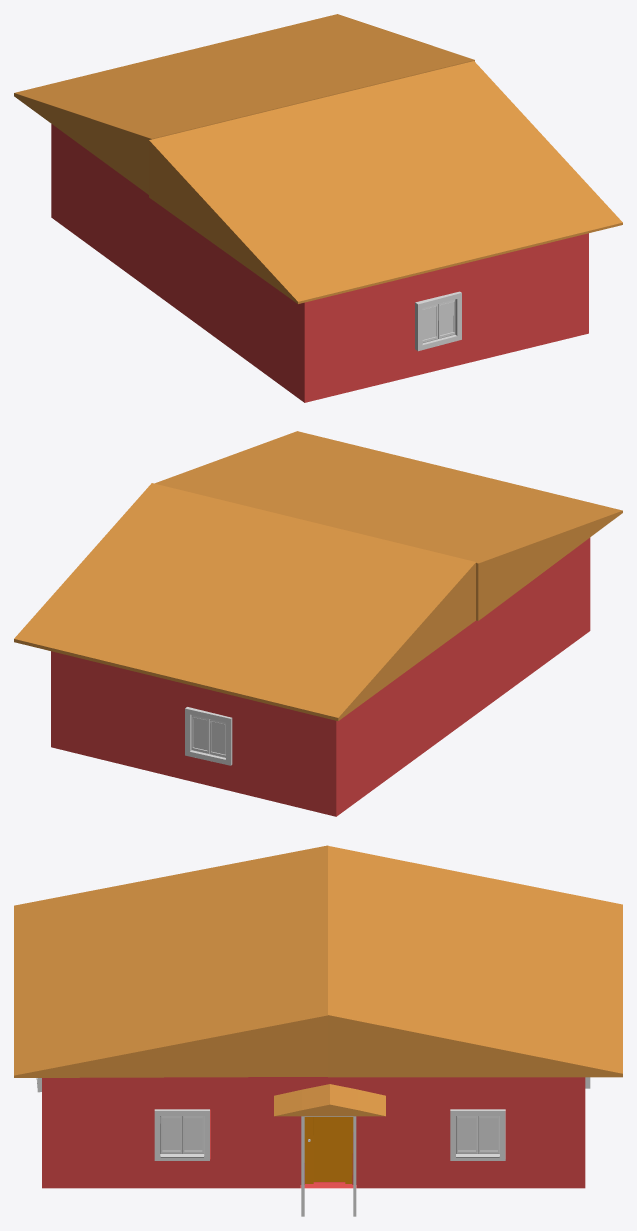
File: Dom 1.fbx
The picture shows the model from 3 angles, top to bottom: view 1: azimuth 30°, elevation 25°; view 2: azimuth 150°, elevation 25°; view 3: azimuth 270°, elevation 25°; orthographic projection. The views are drawn at different scales.
Visible parts, largest first — view 1: Cube.007, Cube, Cube.008, Cube.003; view 2: Cube.008, Cube, Cube.007, Cube.002; view 3: Cube.007, Cube.008, Cube, Cube.006, Cube.004, Cube.001, Cube.016, Cube.015.
Part boxes in pixels (box(x1,y1,x2,y2)): Cube.007: box(149, 61, 622, 303); Cube: box(51, 124, 588, 402); Cube.008: box(14, 14, 474, 194); Cube.003: box(415, 291, 461, 351); Cube.008: box(14, 483, 476, 720); Cube: box(51, 537, 590, 816); Cube.007: box(154, 431, 622, 620); Cube.002: box(185, 707, 232, 765); Cube.007: box(14, 845, 328, 1077); Cube.008: box(328, 846, 622, 1077); Cube: box(42, 1077, 585, 1188); Cube.006: box(304, 1117, 353, 1183); Cube.004: box(154, 1109, 209, 1160); Cube.001: box(450, 1109, 505, 1160); Cube.016: box(330, 1084, 385, 1116); Cube.015: box(274, 1084, 329, 1116).
Size of the model in its own units: 1599 by 769 by 2230.
